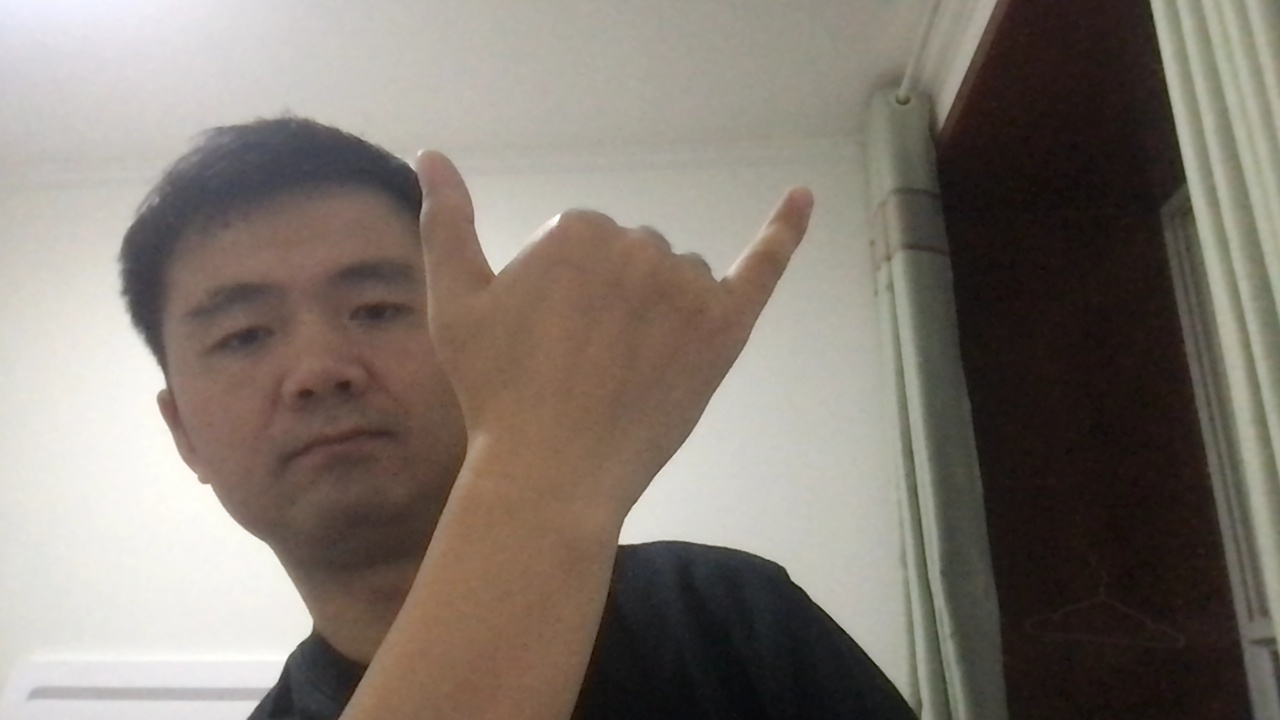iloveyou: (397, 134, 828, 512)
